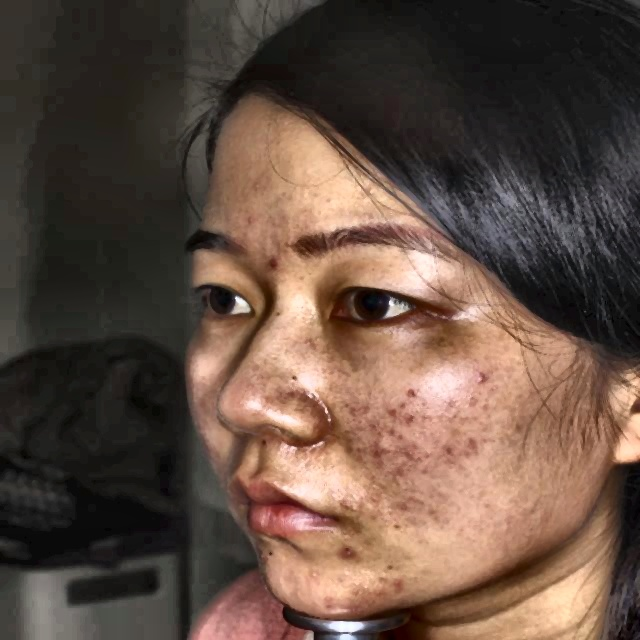pustule: (363, 437, 394, 465), (314, 591, 349, 614), (378, 576, 408, 594), (336, 540, 357, 562), (459, 370, 484, 388), (259, 253, 284, 270)
